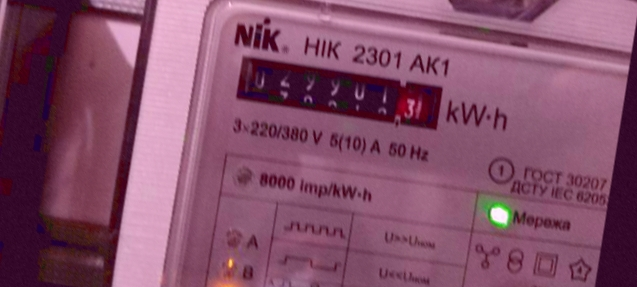0: (349, 75, 368, 102), (249, 65, 267, 89)
1: (376, 79, 392, 105)
2: (276, 64, 294, 88)
3: (399, 95, 418, 120)
9: (326, 73, 341, 98), (301, 68, 317, 91)
screen: (225, 45, 453, 141)
